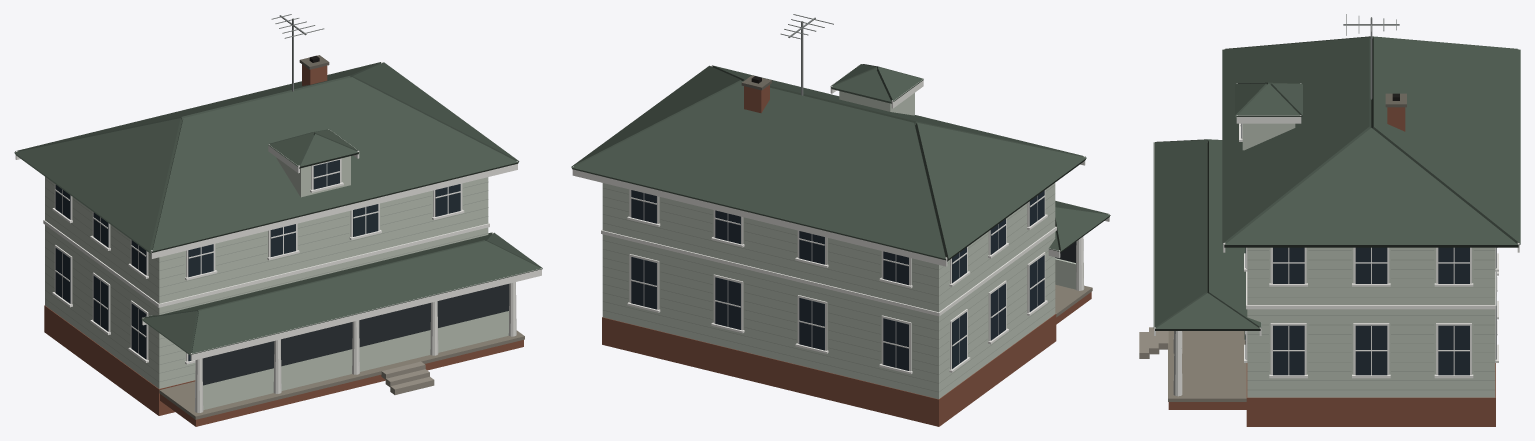
The model's file is frame-foursquare-0002.glb.
The picture shows the model from 3 angles, left to right: view 1: azimuth 30°, elevation 25°; view 2: azimuth 150°, elevation 25°; view 3: azimuth 270°, elevation 25°; orthographic projection. The views are drawn at different scales.
Parts seen in each view (by area): view 1: kit-frame-foursquare-0002; view 2: kit-frame-foursquare-0002; view 3: kit-frame-foursquare-0002.
Part boxes in pixels (left/top/right/bottom): kit-frame-foursquare-0002: left=14, top=14, right=542, bottom=426; kit-frame-foursquare-0002: left=571, top=14, right=1110, bottom=426; kit-frame-foursquare-0002: left=1139, top=14, right=1520, bottom=426.
Bounding box in the file's own units: 14.04 × 11.19 × 11.53.
